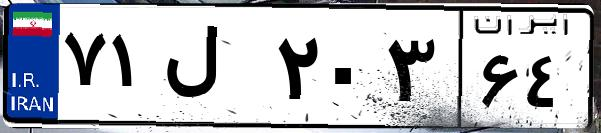0: (330, 28, 385, 110)
1: (110, 28, 158, 98)
2: (270, 28, 330, 110)
3: (385, 28, 445, 110)
4: (525, 38, 570, 115)
6: (475, 38, 525, 113)
7: (57, 26, 110, 100)
ل: (158, 20, 270, 120)
